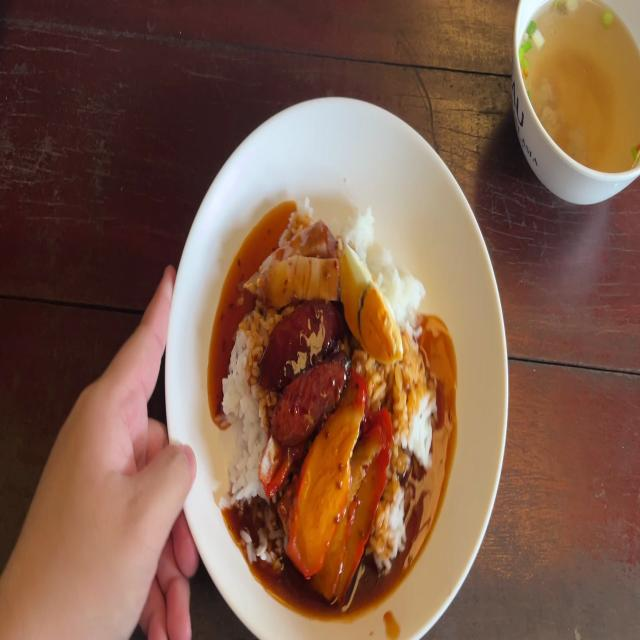01boiled_egg: (340, 245, 398, 361)
01chainese_sausage: (263, 307, 339, 411)
01crispy_pork: (242, 226, 342, 294)
01red_pork: (297, 382, 393, 582)
01red_pork_and_crispy_pork: (221, 198, 435, 595)
01rice: (228, 312, 260, 524), (393, 369, 437, 453), (375, 493, 412, 563), (389, 270, 419, 322)
